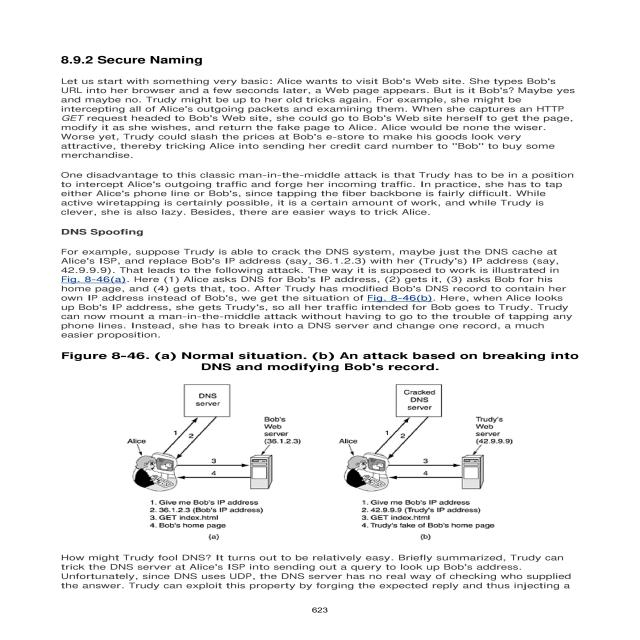diagram: (48, 342, 602, 547)
